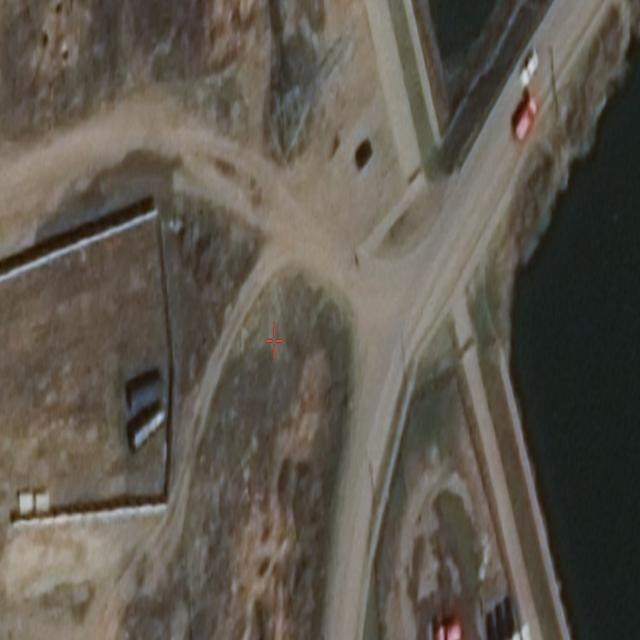crack: (364, 446, 378, 512), (552, 40, 561, 100), (400, 325, 408, 375)
old_road: (0, 75, 406, 640)
road: (322, 0, 628, 640)
water: (510, 28, 640, 640), (422, 0, 514, 99)
